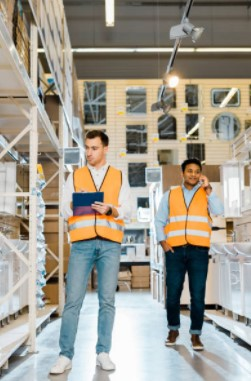worker: (68, 132, 124, 244), (164, 160, 211, 249)
